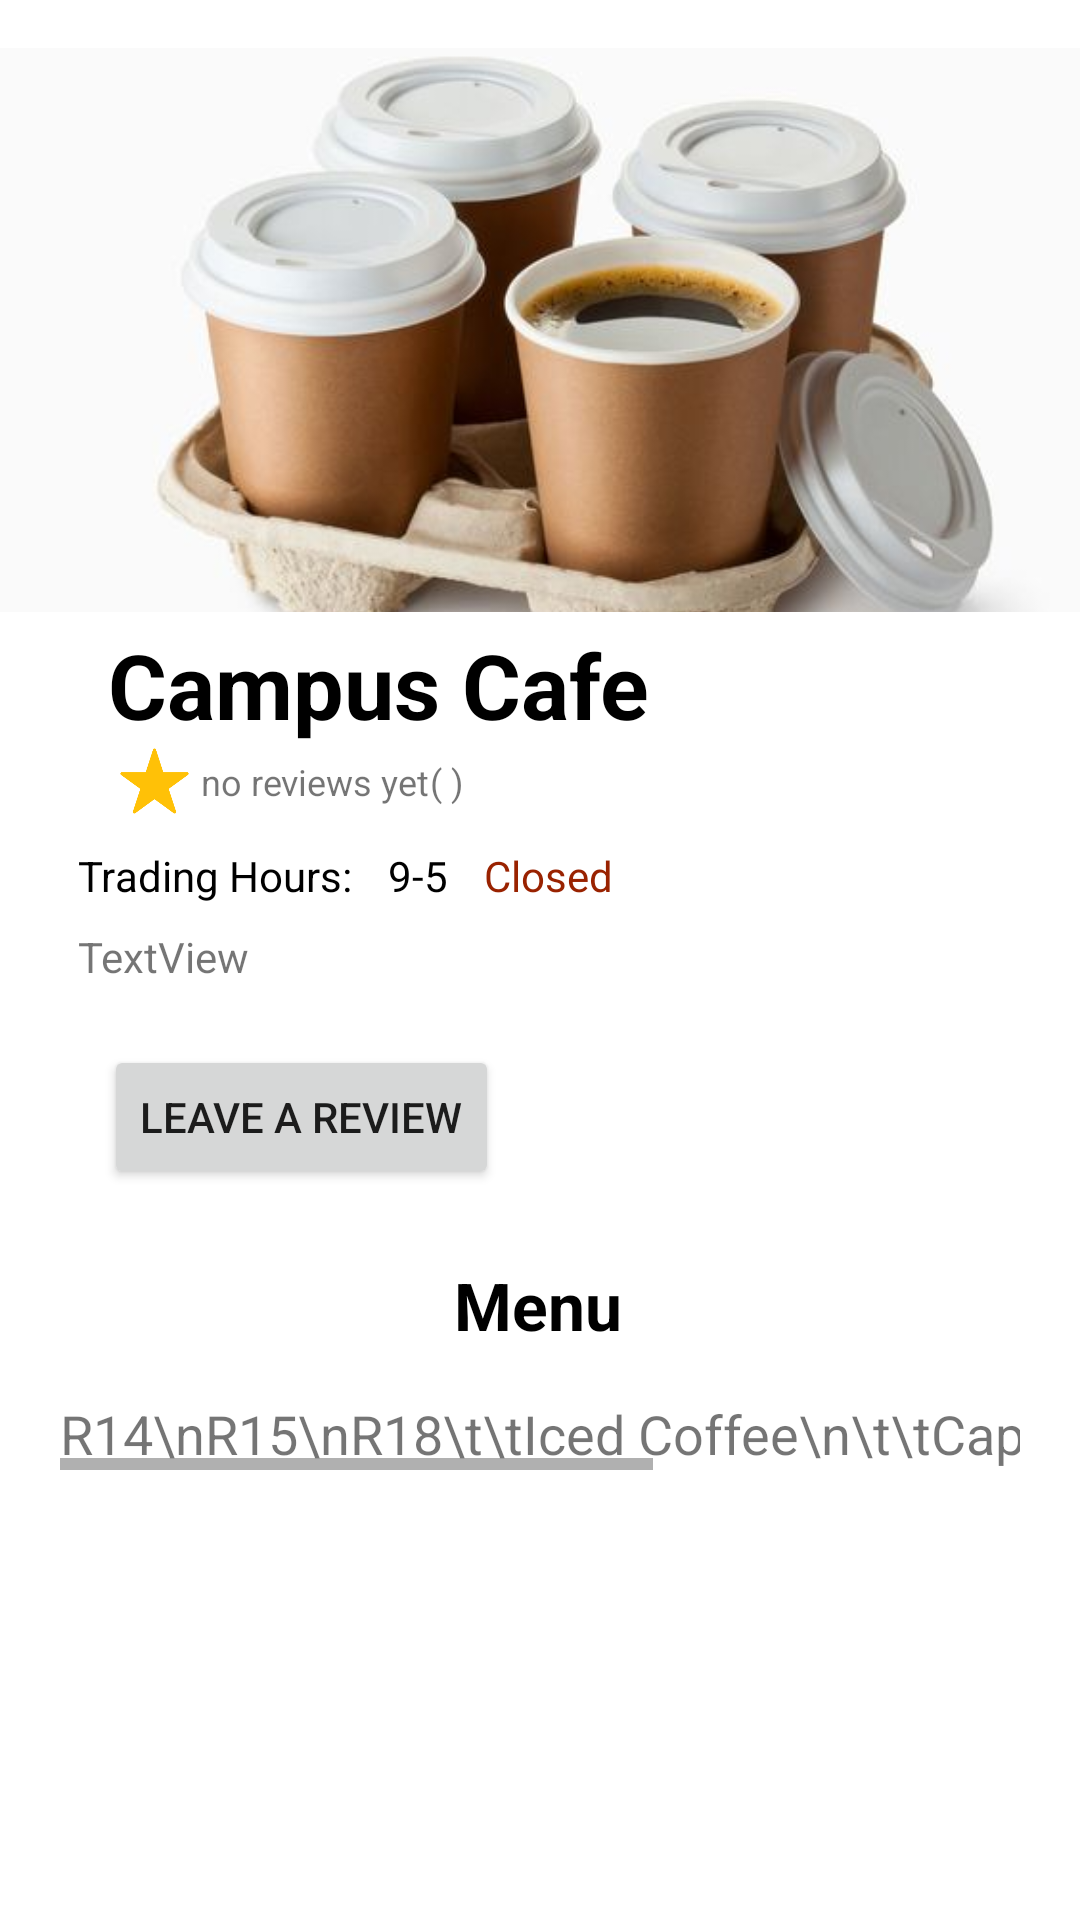

Icons on this 1080 × 1920 Android screen, each with its box as (x1, y1, x2, y2):
star: (120, 748, 189, 814)
